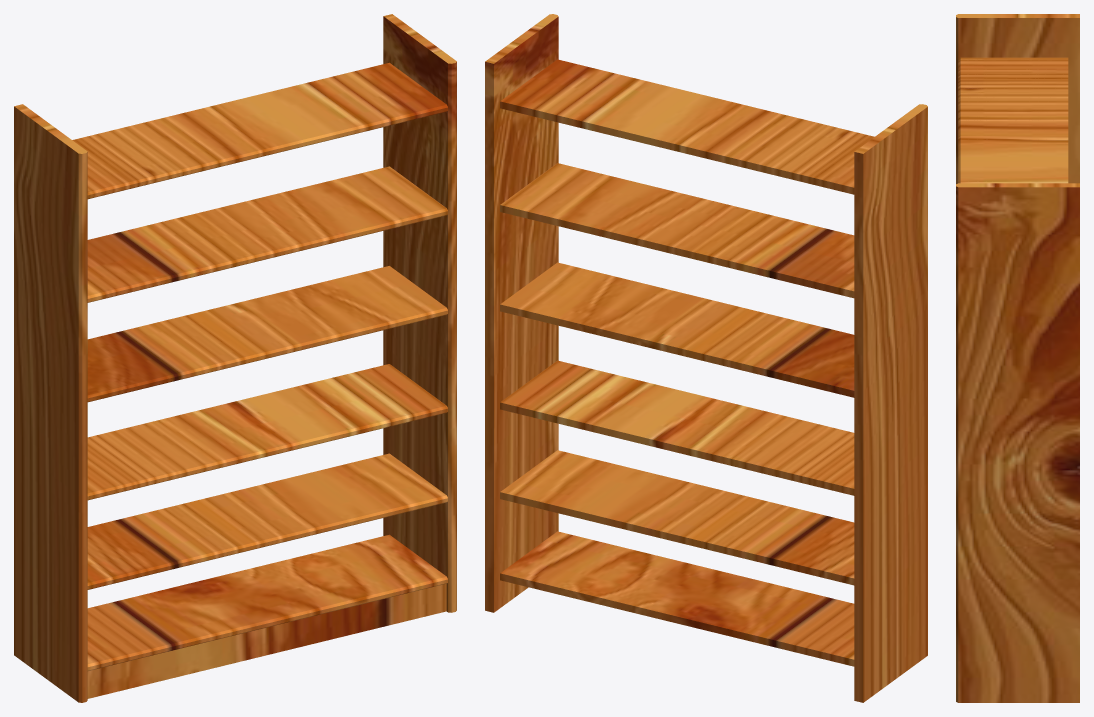
File: estante.obj
3 renders of one model, left to right at view 1: azimuth 30°, elevation 25°; view 2: azimuth 150°, elevation 25°; view 3: azimuth 270°, elevation 25°, orthographic. The views are drawn at different scales.
Parts seen in each view (by area): view 1: Bibliotheque:Bibliotheque polySurface2, Bibliotheque:Bibliotheque polySurface3, Bibliotheque:Bibliotheque polySurface9, Bibliotheque:Bibliotheque polySurface5, polySurface8 Bibliotheque:Bibliotheque, Bibliotheque:Bibliotheque polySurface4, Bibliotheque:Bibliotheque polySurface6, Bibliotheque:Bibliotheque polySurface7, Bibliotheque:Bibliotheque polySurface1; view 2: Bibliotheque:Bibliotheque polySurface2, Bibliotheque:Bibliotheque polySurface3, Bibliotheque:Bibliotheque polySurface9, Bibliotheque:Bibliotheque polySurface5, Bibliotheque:Bibliotheque polySurface7, Bibliotheque:Bibliotheque polySurface6, Bibliotheque:Bibliotheque polySurface4, polySurface8 Bibliotheque:Bibliotheque; view 3: Bibliotheque:Bibliotheque polySurface3, Bibliotheque:Bibliotheque polySurface9, Bibliotheque:Bibliotheque polySurface2.
Boxes of the visible parts, <box> form: Bibliotheque:Bibliotheque polySurface2: <box>14,104,87,702</box>; Bibliotheque:Bibliotheque polySurface3: <box>383,14,456,612</box>; Bibliotheque:Bibliotheque polySurface9: <box>72,62,447,199</box>; Bibliotheque:Bibliotheque polySurface5: <box>87,453,447,589</box>; polySurface8 Bibliotheque:Bibliotheque: <box>87,166,447,302</box>; Bibliotheque:Bibliotheque polySurface4: <box>87,534,447,670</box>; Bibliotheque:Bibliotheque polySurface6: <box>87,364,447,500</box>; Bibliotheque:Bibliotheque polySurface7: <box>87,266,447,402</box>; Bibliotheque:Bibliotheque polySurface1: <box>87,584,446,698</box>; Bibliotheque:Bibliotheque polySurface2: <box>854,104,927,702</box>; Bibliotheque:Bibliotheque polySurface3: <box>485,14,558,612</box>; Bibliotheque:Bibliotheque polySurface9: <box>500,59,874,194</box>; Bibliotheque:Bibliotheque polySurface5: <box>500,450,854,585</box>; Bibliotheque:Bibliotheque polySurface7: <box>500,262,854,397</box>; Bibliotheque:Bibliotheque polySurface6: <box>500,360,854,495</box>; Bibliotheque:Bibliotheque polySurface4: <box>500,531,854,666</box>; polySurface8 Bibliotheque:Bibliotheque: <box>500,163,854,298</box>; Bibliotheque:Bibliotheque polySurface3: <box>956,183,1079,702</box>; Bibliotheque:Bibliotheque polySurface9: <box>958,57,1068,183</box>; Bibliotheque:Bibliotheque polySurface2: <box>956,14,1079,183</box>.
Size of the model in its own units: 0.848 by 1.18 by 0.256.
1 material, 1 textured.
